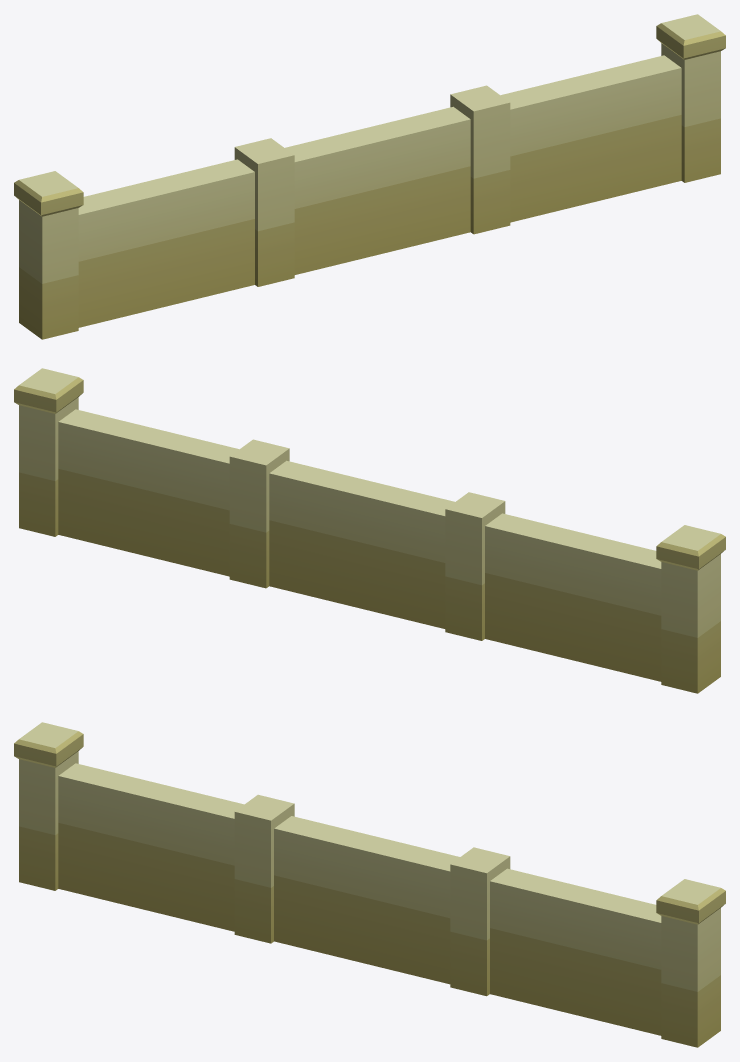
File: SM_Rich_Wall_01.fbx
3 views of the same model, one above another, from view 1: azimuth 30°, elevation 25°; view 2: azimuth 150°, elevation 25°; view 3: azimuth 330°, elevation 25° (orthographic).
Visible parts, largest first — view 1: SM_Rich_Wall_01; view 2: SM_Rich_Wall_01; view 3: SM_Rich_Wall_01.
Boxes of the visible parts, x1,y1,x2,y2 form: SM_Rich_Wall_01: (14,14,725,339); SM_Rich_Wall_01: (14,368,725,693); SM_Rich_Wall_01: (14,722,725,1047).
Bounding box in the file's own units: 6.35 × 1.27 × 0.4357.
